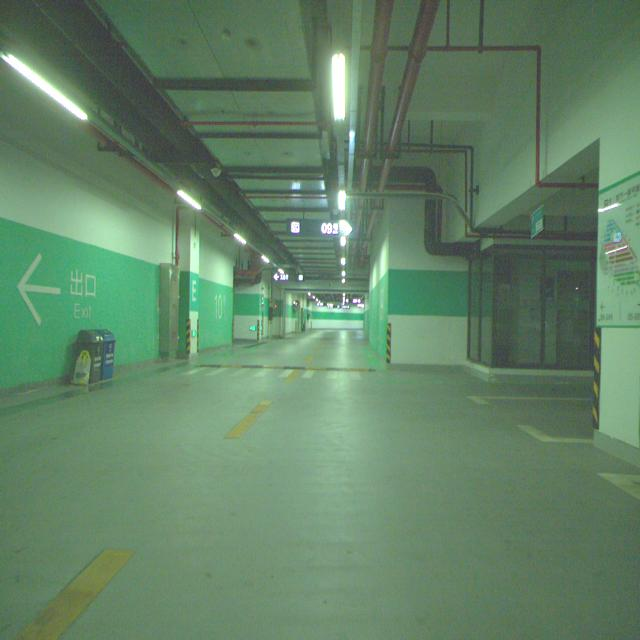wall: (179, 210, 200, 355)
